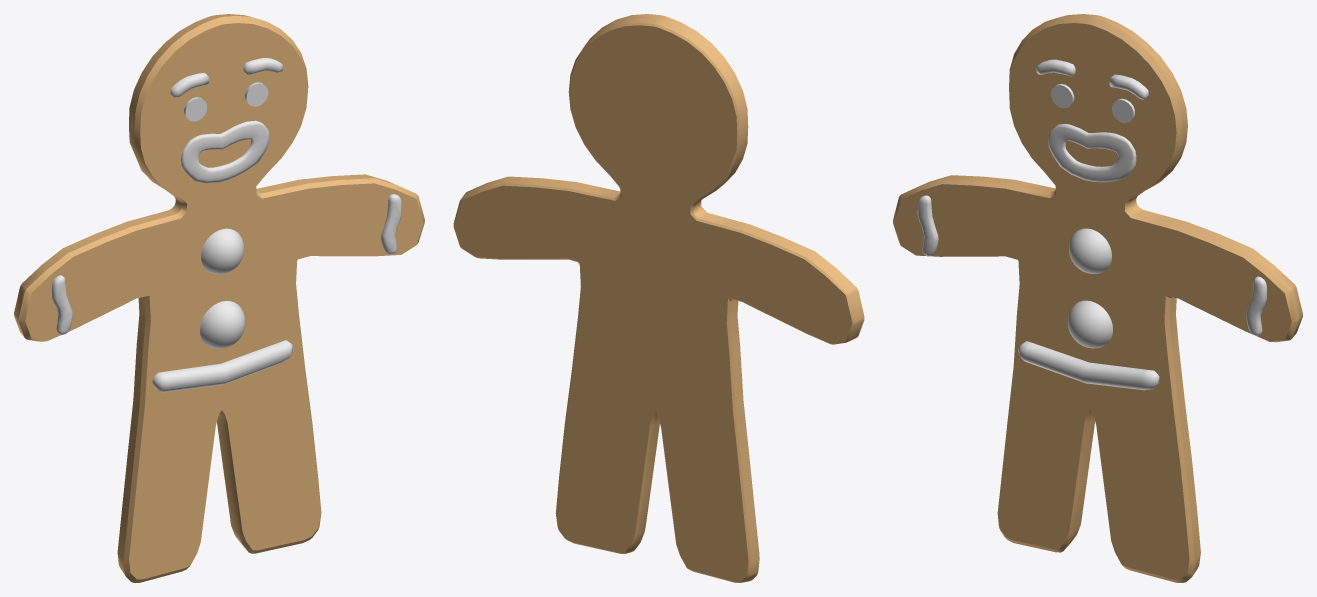
The model's file is Gingerbread_Man.fbx.
The picture shows the model from 3 angles, left to right: view 1: azimuth 30°, elevation 25°; view 2: azimuth 150°, elevation 25°; view 3: azimuth 330°, elevation 25°; orthographic projection.
Parts seen in each view (by area): view 1: Circle.002, Cube.004, Cube.003, Sphere.010, Cube.006, Sphere.008, Cube.005; view 2: Circle.002; view 3: Circle.002, Cube.004, Cube.003, Sphere.010, Cube.006, Sphere.008, Cube.005.
Boxes of the visible parts, box(x1,y1,x2,y2) form: Circle.002: box(14, 14, 424, 582); Cube.004: box(181, 120, 269, 183); Cube.003: box(152, 340, 292, 392); Sphere.010: box(200, 301, 245, 348); Cube.006: box(52, 194, 401, 334); Sphere.008: box(201, 228, 244, 274); Cube.005: box(170, 58, 283, 98); Circle.002: box(453, 14, 864, 582); Circle.002: box(893, 14, 1302, 582); Cube.004: box(1048, 124, 1136, 182); Cube.003: box(1018, 341, 1159, 390); Sphere.010: box(1067, 300, 1112, 348); Cube.006: box(917, 195, 1266, 336); Sphere.008: box(1069, 228, 1111, 273); Cube.005: box(1036, 59, 1148, 99).
Bounding box in the file's own units: 232 × 298 × 20.51.
